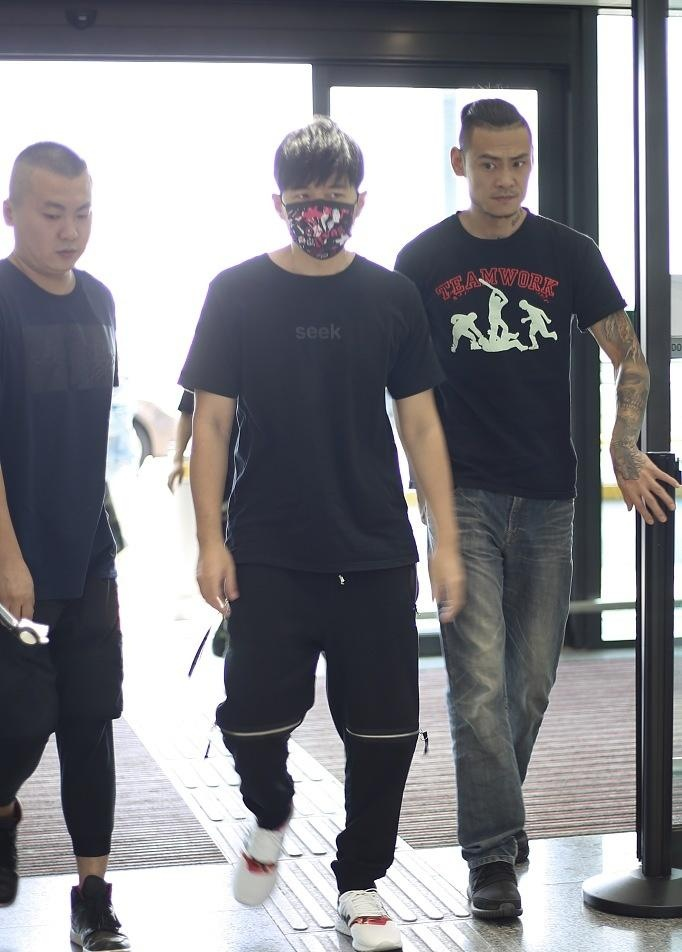Mask: (282, 178, 361, 257)
